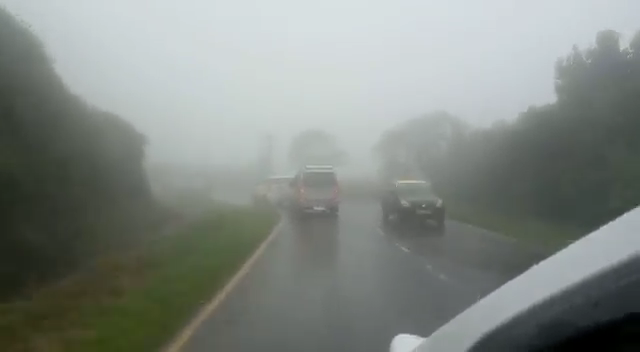car: (380, 180, 445, 231), (289, 165, 340, 216), (253, 175, 302, 210)
